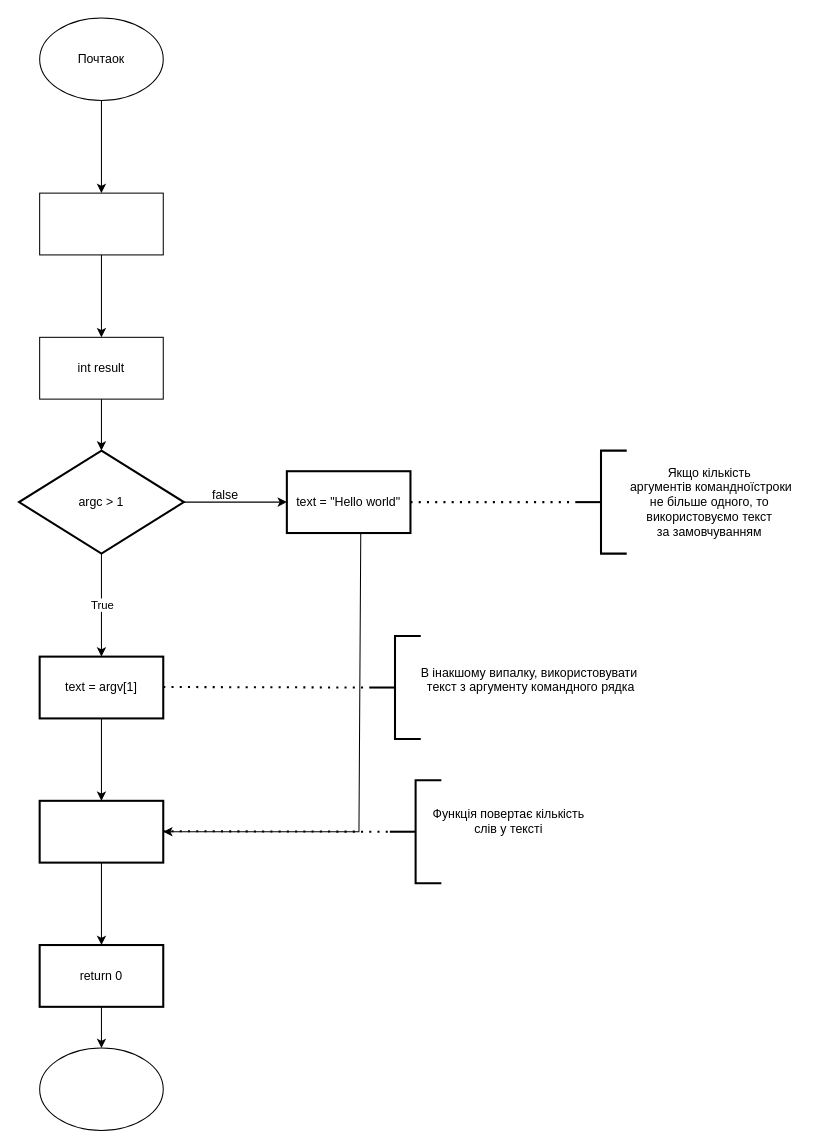
The diagram is 819 pixels wide and 1148 high, and some of its shapes have lost their labels. Here are the shapes that lost their labels. From the top down, the centre of each, then its label:
At [101,223]: "char *text".
At [101,831]: "result = count_of_words(text)".
At [101,1088]: "Кінець".
